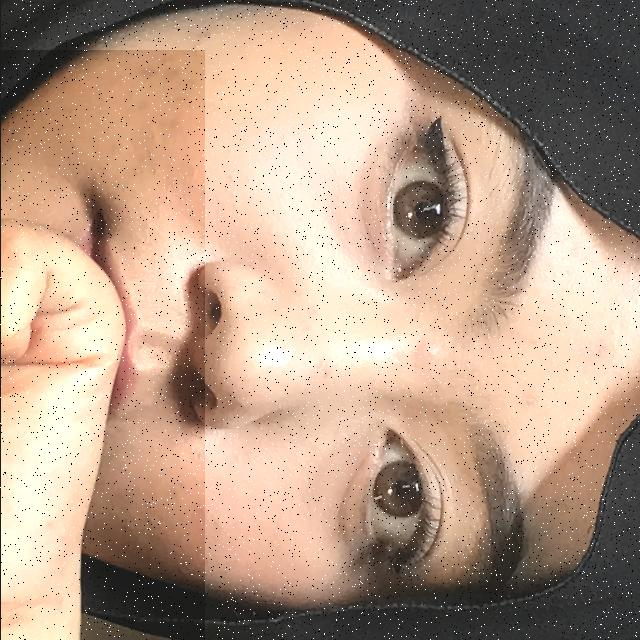sedih: (0, 50, 204, 640)
